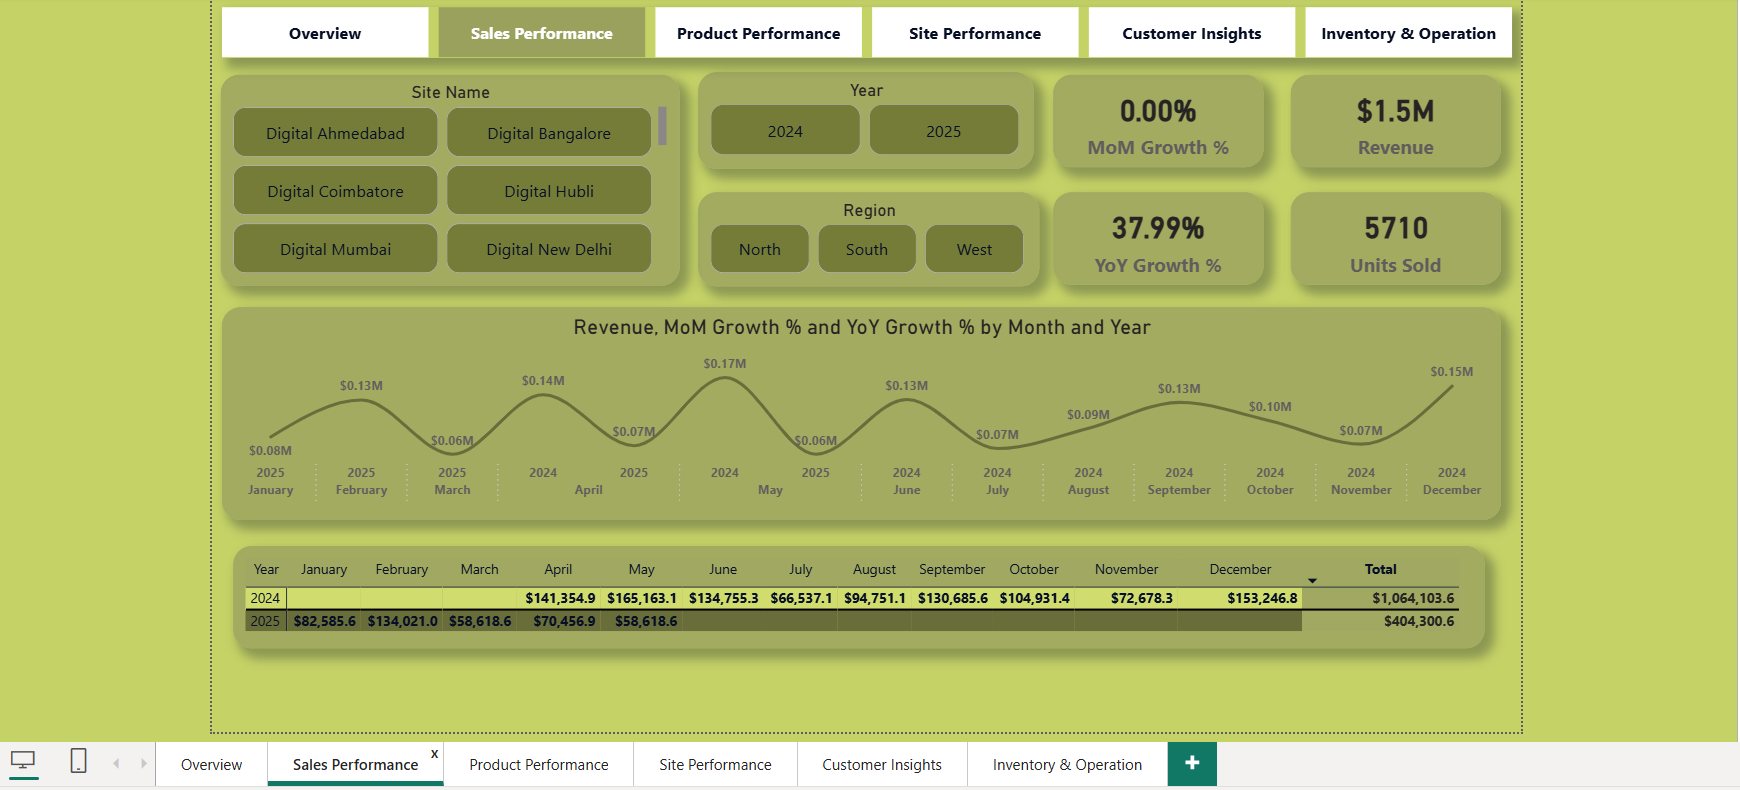

What the dashboard file says about the page in this screenshot:
{"tool":"powerbi","page":{"name":"Sales Performance","canvas":[1280,720],"ordinal":1},"visuals":[{"type":"card","fields":{"Values":["All Measurs.MoM Growth %"]},"box":[823,77,205.4,90.5],"z":0},{"type":"lineChart","fields":{"Y":["All Measurs.Revenue"],"Category":["Date.Date.Variation.Date Hierarchy.Month","Date.Date.Variation.Date Hierarchy.Year"]},"box":[9.8,304.5,1251,207.9],"z":1000},{"type":"pivotTable","fields":{"Rows":["Date.Date.Variation.Date Hierarchy.Year"],"Columns":["Date.Date.Variation.Date Hierarchy.Month"],"Values":["All Measurs.Revenue"]},"box":[20.8,538,1224.1,100.3],"z":2000},{"type":"advancedSlicerVisual","fields":{"Values":["Date.Date.Variation.Date Hierarchy.Year"]},"box":[475.7,74.6,327.7,94.2],"z":3000},{"type":"advancedSlicerVisual","fields":{"Values":["Site_Details.Region"]},"box":[475.7,192,333.8,91.7],"z":4000},{"type":"advancedSlicerVisual","fields":{"Values":["Site_Details.Site Name"]},"box":[9,77,448.8,206.7],"z":5000},{"type":"pageNavigator","box":[9.6,11,1262.4,49.4],"z":6000},{"type":"card","fields":{"Values":["All Measurs.Revenue","select"]},"box":[1055.3,77,205.4,90.5],"z":7000},{"type":"card","fields":{"Values":["All Measurs.YoY Growth %"]},"box":[823,192,205.4,90.5],"z":8000},{"type":"card","fields":{"Values":["All Measurs.Units Sold"]},"box":[1055.3,192,205.4,90.5],"z":9000}]}

Visuals, with their boxes on the page's 1280x720 design canvas (x1, y1, x2, y2). These are canvas units, not pixel positions in the 1740x790 screenshot, which may show the page scaled, cropped or inside an application window:
card - All Measurs.MoM Growth %: region(823, 77, 1028, 168)
lineChart - All Measurs.Revenue x Date.Date.Variation.Date Hierarchy.Month: region(10, 304, 1261, 512)
pivotTable - Date.Date.Variation.Date Hierarchy.Year x Date.Date.Variation.Date Hierarchy.Month: region(21, 538, 1245, 638)
advancedSlicerVisual - Date.Date.Variation.Date Hierarchy.Year: region(476, 75, 803, 169)
advancedSlicerVisual - Site_Details.Region: region(476, 192, 810, 284)
advancedSlicerVisual - Site_Details.Site Name: region(9, 77, 458, 284)
pageNavigator: region(10, 11, 1272, 60)
card - All Measurs.Revenue x select: region(1055, 77, 1261, 168)
card - All Measurs.YoY Growth %: region(823, 192, 1028, 282)
card - All Measurs.Units Sold: region(1055, 192, 1261, 282)
